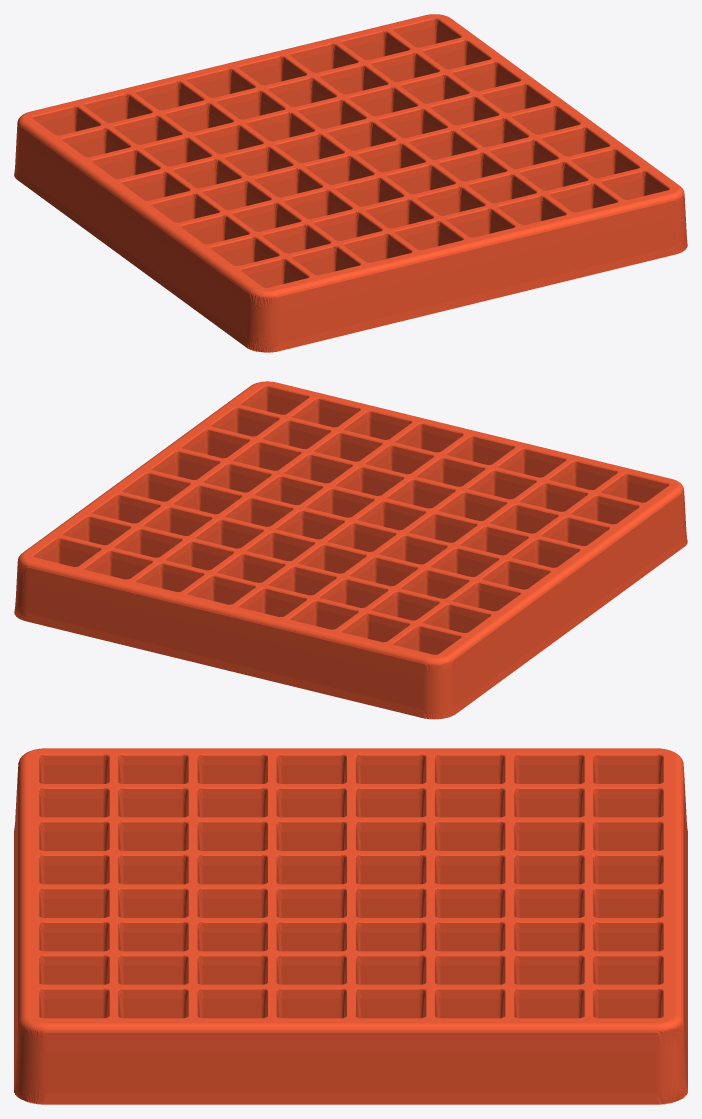
File: mold.glb
3 renders of one model, top to bottom at view 1: azimuth 30°, elevation 25°; view 2: azimuth 150°, elevation 25°; view 3: azimuth 270°, elevation 25°, orthographic. The views are drawn at different scales.
Visible parts, largest first — view 1: geometry_0; view 2: geometry_0; view 3: geometry_0.
Part boxes in pixels (x1=…): geometry_0: x1=14, y1=14, x2=687, y2=352; geometry_0: x1=14, y1=381, x2=687, y2=719; geometry_0: x1=14, y1=748, x2=687, y2=1104.
Size of the model in its own units: 0.1886 by 0.0236 by 0.1886.
